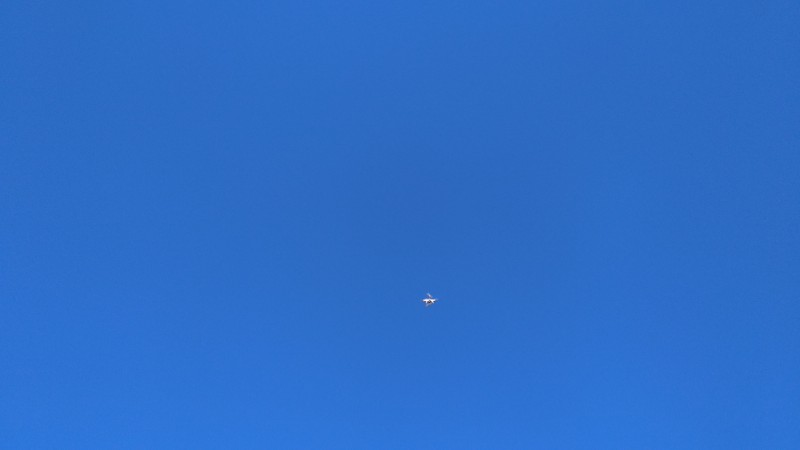drone: (422, 291, 438, 307)
